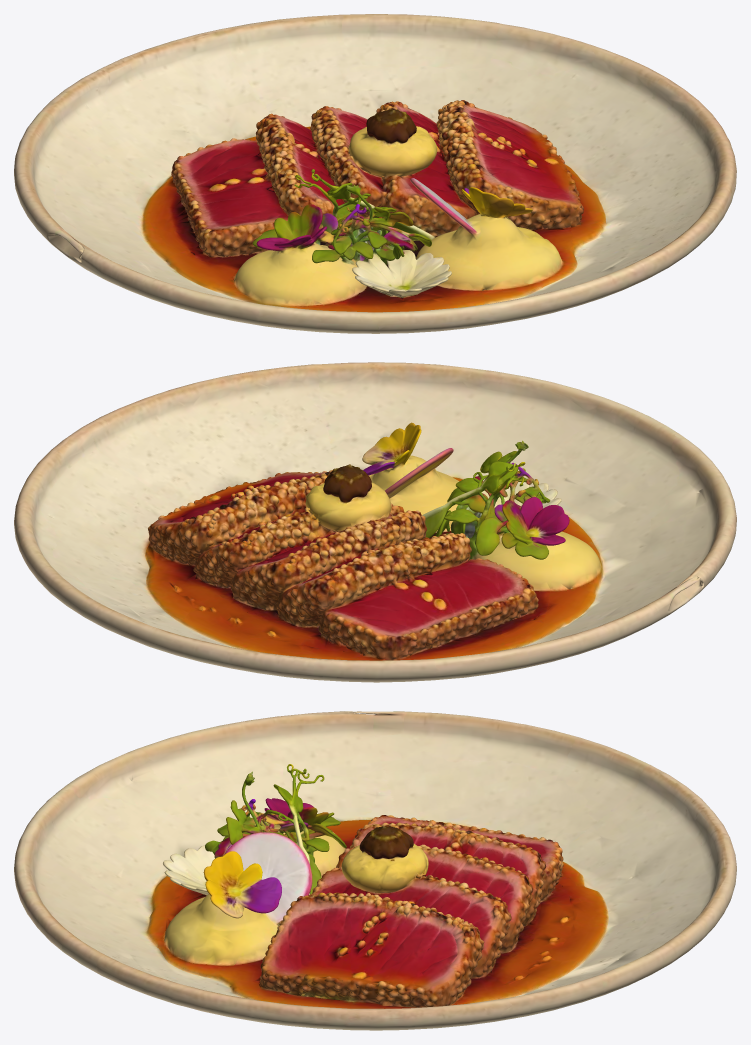
Rendered from sesame-crusted-tuna-tataki.glb.
3 renders of one model, top to bottom at view 1: azimuth 30°, elevation 25°; view 2: azimuth 150°, elevation 25°; view 3: azimuth 270°, elevation 25°, orthographic.
Visible parts, largest first — view 1: tripo_node_48344f07-29ec-45ad-ad60-43b5579e8251; view 2: tripo_node_48344f07-29ec-45ad-ad60-43b5579e8251; view 3: tripo_node_48344f07-29ec-45ad-ad60-43b5579e8251.
Part boxes in pixels (box(x1,y1,x2,y2)): tripo_node_48344f07-29ec-45ad-ad60-43b5579e8251: box(14, 14, 736, 333); tripo_node_48344f07-29ec-45ad-ad60-43b5579e8251: box(14, 362, 736, 682); tripo_node_48344f07-29ec-45ad-ad60-43b5579e8251: box(14, 711, 736, 1030).
Bounding box in the file's own units: 0.9777 × 0.2011 × 0.9801.
1 material, 1 textured.
